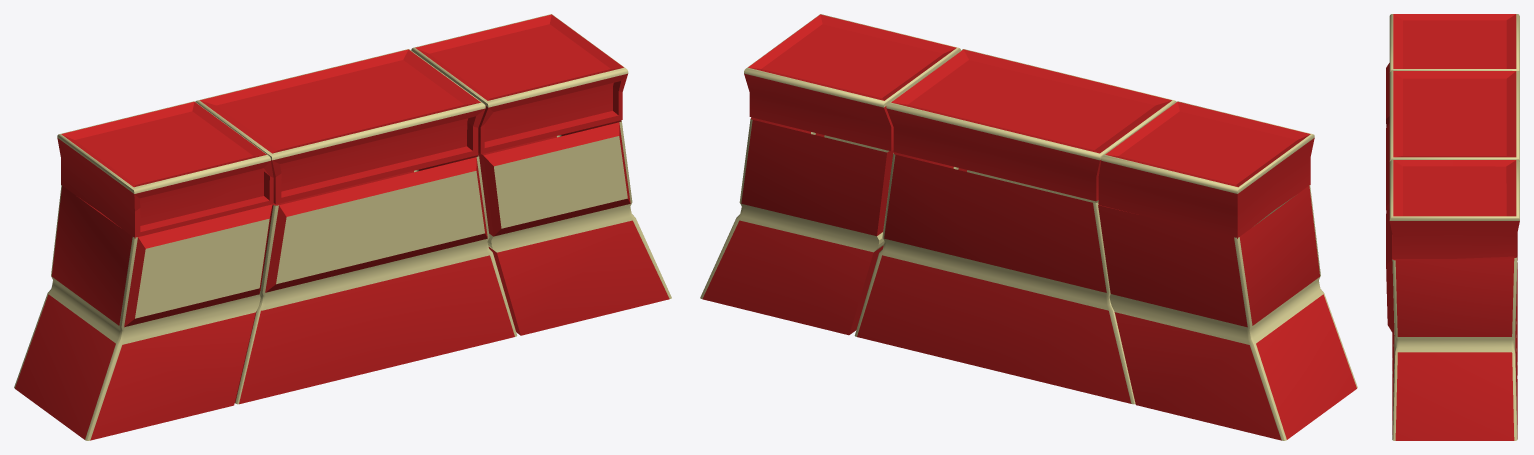
The model's file is TrashCan.fbx.
The picture shows the model from 3 angles, left to right: view 1: azimuth 30°, elevation 25°; view 2: azimuth 150°, elevation 25°; view 3: azimuth 270°, elevation 25°; orthographic projection. The views are drawn at different scales.
Visible parts, largest first — view 1: TrashCan; view 2: TrashCan; view 3: TrashCan.
Boxes of the visible parts, x1,y1,x2,y2 form: TrashCan: [14, 14, 671, 440]; TrashCan: [700, 14, 1357, 440]; TrashCan: [1386, 14, 1519, 440].
Size of the model in its own units: 335 by 132 by 78.34.
